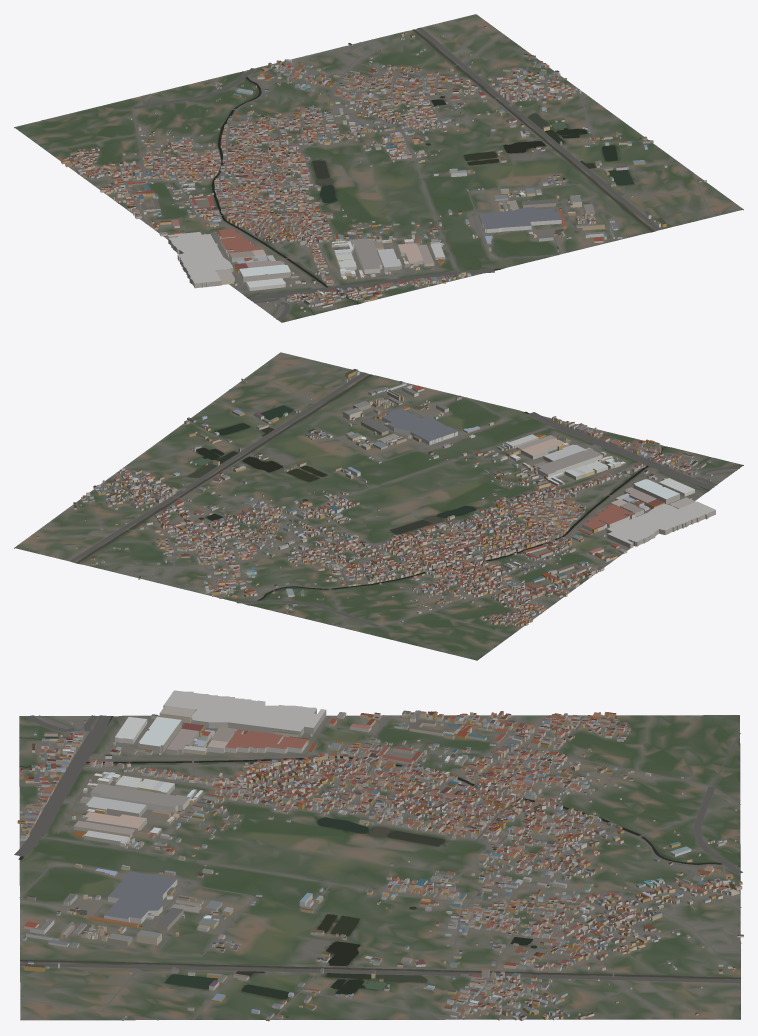
The picture shows the model from 3 angles, top to bottom: view 1: azimuth 30°, elevation 25°; view 2: azimuth 150°, elevation 25°; view 3: azimuth 270°, elevation 25°; orthographic projection. The views are drawn at different scales.
Parts seen in each view (by area): view 1: ground, buildings, roads, water; view 2: ground, buildings, roads, water; view 3: ground, buildings, roads, water.
Part boxes in pixels (x1,y1,x2,y2): ground: (14, 14, 743, 322); buildings: (61, 26, 706, 311); roads: (41, 27, 712, 320); water: (211, 29, 653, 314); ground: (14, 352, 743, 660); buildings: (36, 369, 715, 626); roads: (42, 360, 740, 653); water: (76, 374, 710, 605); ground: (19, 715, 740, 1020); buildings: (17, 690, 743, 1021); roads: (14, 715, 742, 1020); water: (18, 716, 740, 1017).
Size of the model in its own units: 1495 by 21.65 by 1420.
